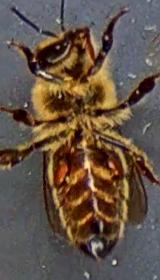varroa_mite: (46, 144, 86, 191), (103, 150, 139, 186)
